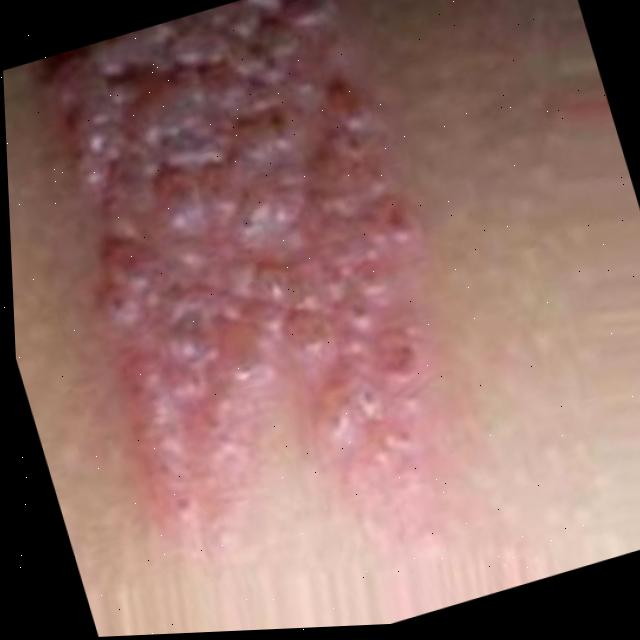Shingles: (19, 0, 484, 558)
